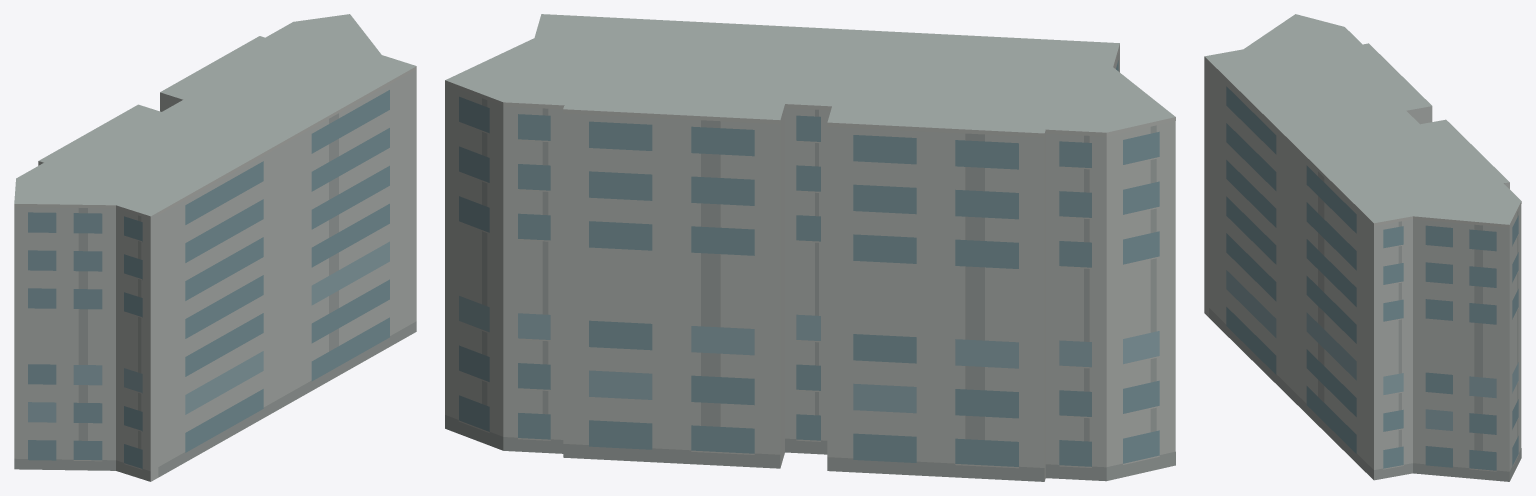
The model's file is survey-upis-32941681.glb.
3 renders of one model, left to right at view 1: azimuth 30°, elevation 25°; view 2: azimuth 150°, elevation 25°; view 3: azimuth 270°, elevation 25°, orthographic. The views are drawn at different scales.
Parts seen in each view (by area): view 1: survey-upis-32941681.tmp; view 2: survey-upis-32941681.tmp; view 3: survey-upis-32941681.tmp.
Part boxes in pixels (box(x1,y1,x2,y2)): survey-upis-32941681.tmp: box(14, 14, 416, 481); survey-upis-32941681.tmp: box(445, 14, 1175, 481); survey-upis-32941681.tmp: box(1204, 14, 1521, 481).
Bounding box in the file's own units: 37.12 × 21.1 × 23.59.
